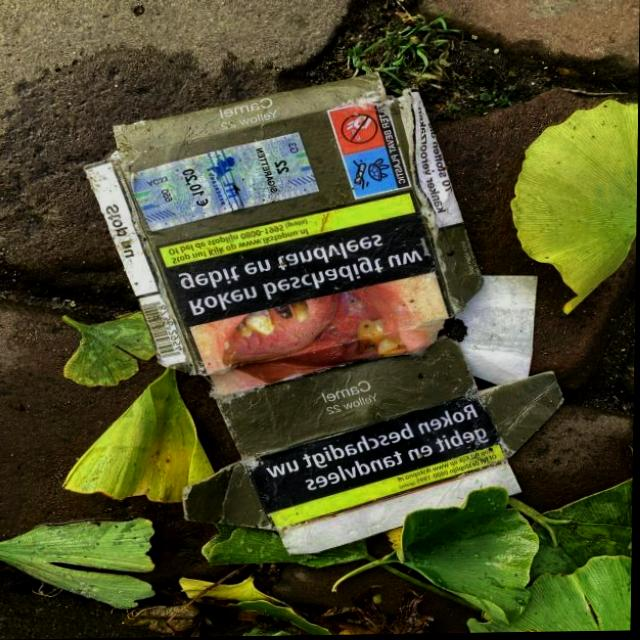Paper: (76, 66, 548, 563)
